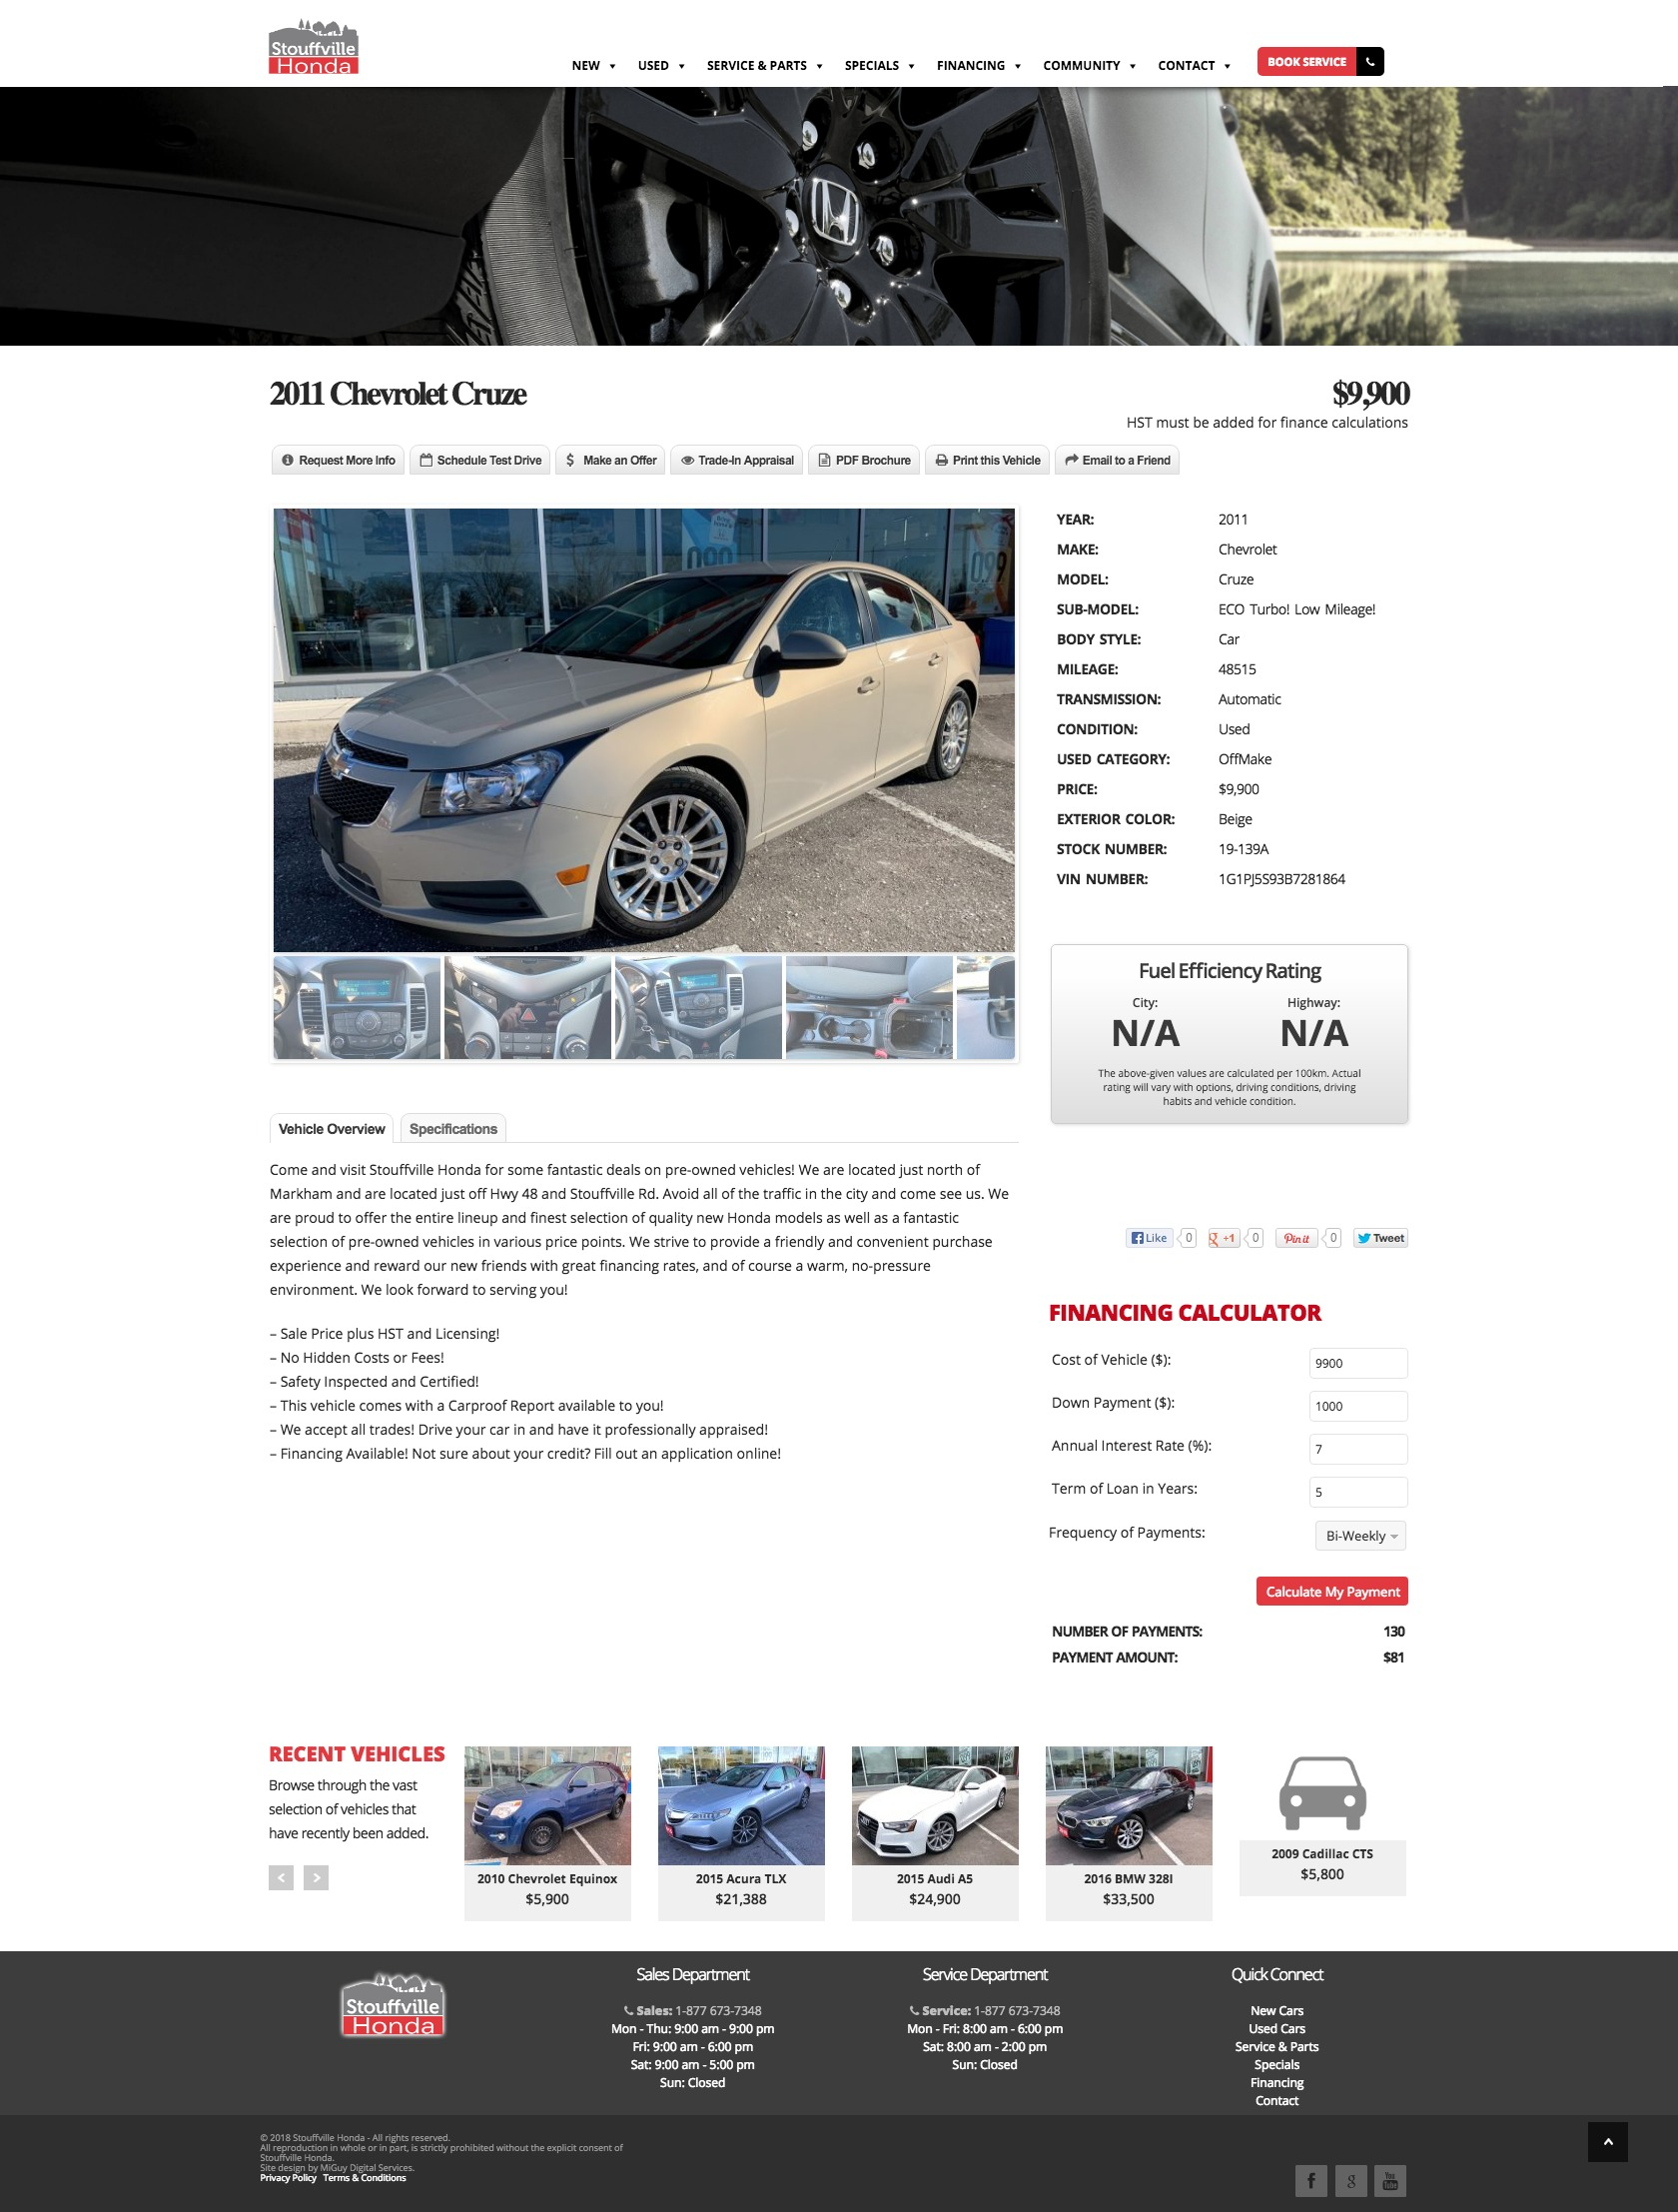car: (994, 955, 1021, 1065)
